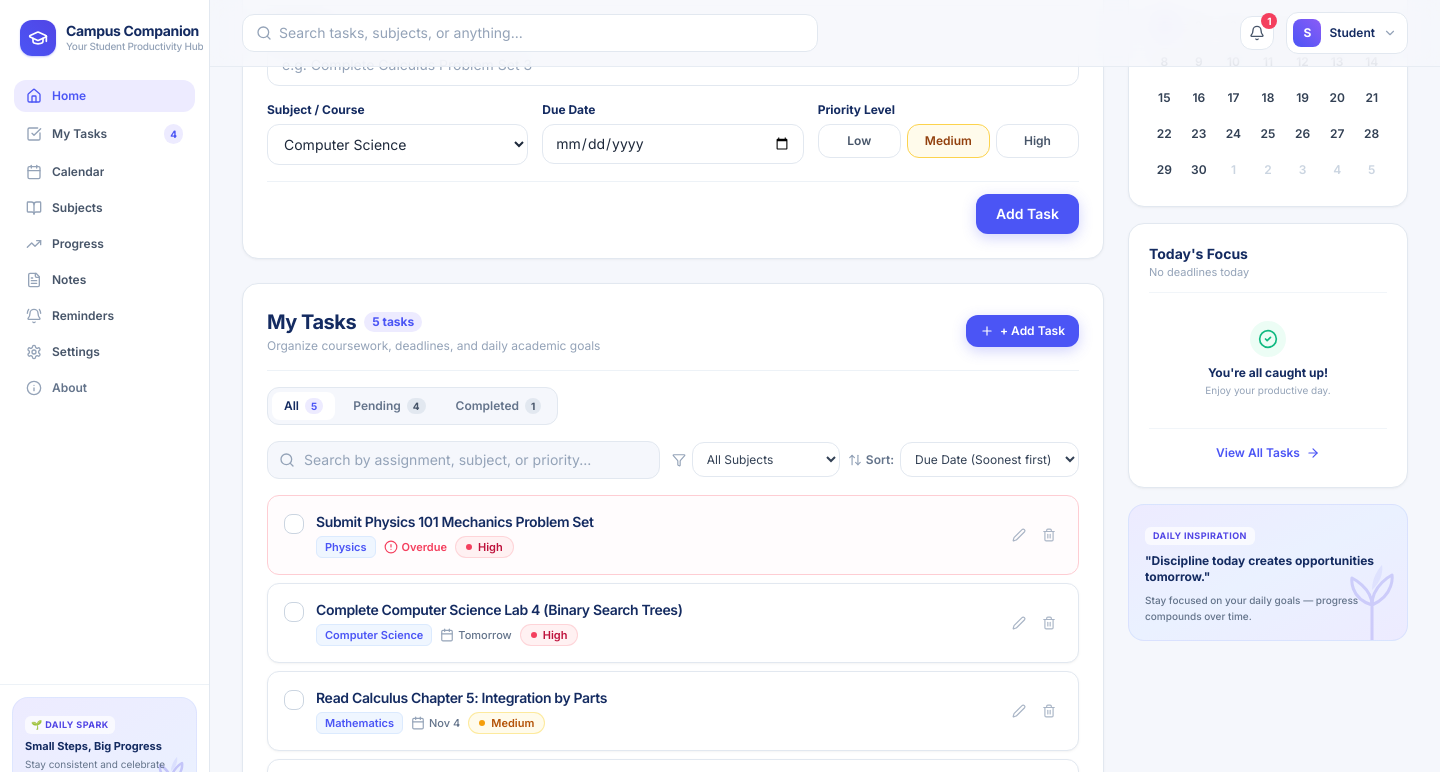
Test: Campus Companion Application › filters tasks using All, Pending, and Completed tabs
(page scrolled)
// Click Pending tab
Click the button "Pending 4" at point(389, 406), box [341,392,438,420]
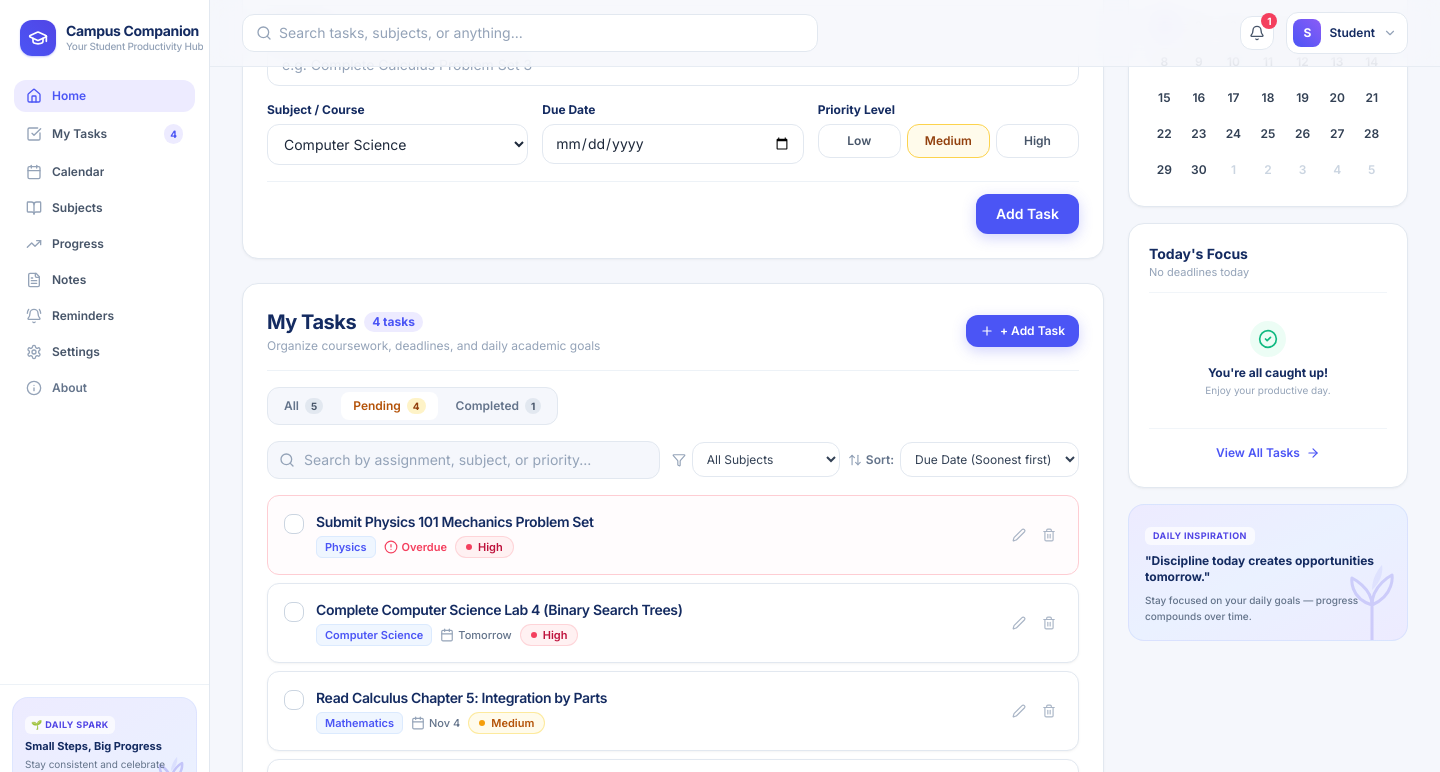
Expected: the text "Complete Computer Science Lab 4 (Binary Search Trees)" is shown, [316,600,683,620]
Expected: the text "Review Linear Algebra Midterm Practice Questions" is not shown
// Click Completed tab
Click the button "Completed 1" at point(498, 406), box [444,392,553,420]
(page scrolled)
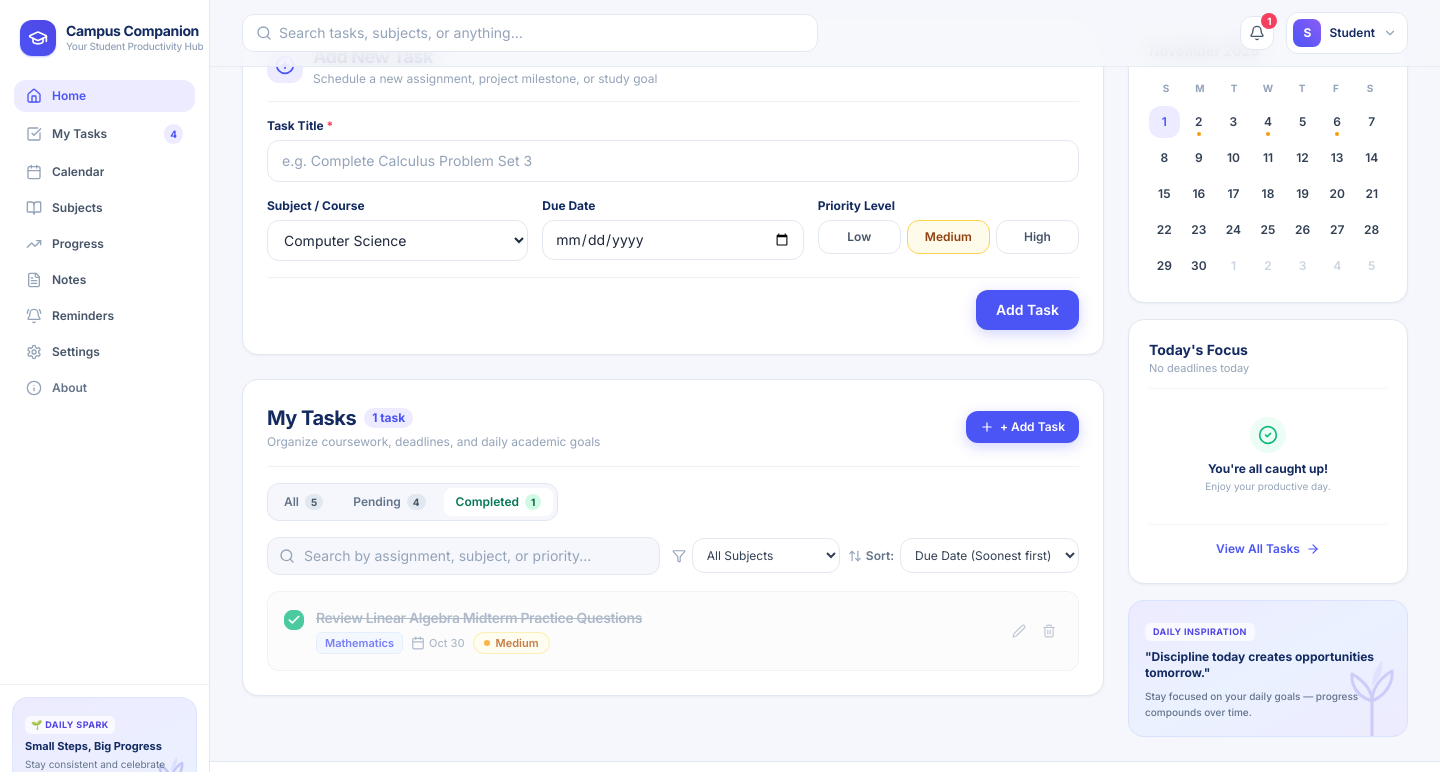
Now the text "Complete Computer Science Lab 4 (Binary Search Trees)" is gone
Now the text "Review Linear Algebra Midterm Practice Questions" is shown, box [316,608,642,628]
// Click All tab
Click the button "All 5" at point(304, 502), box [272,488,335,516]
(page scrolled)
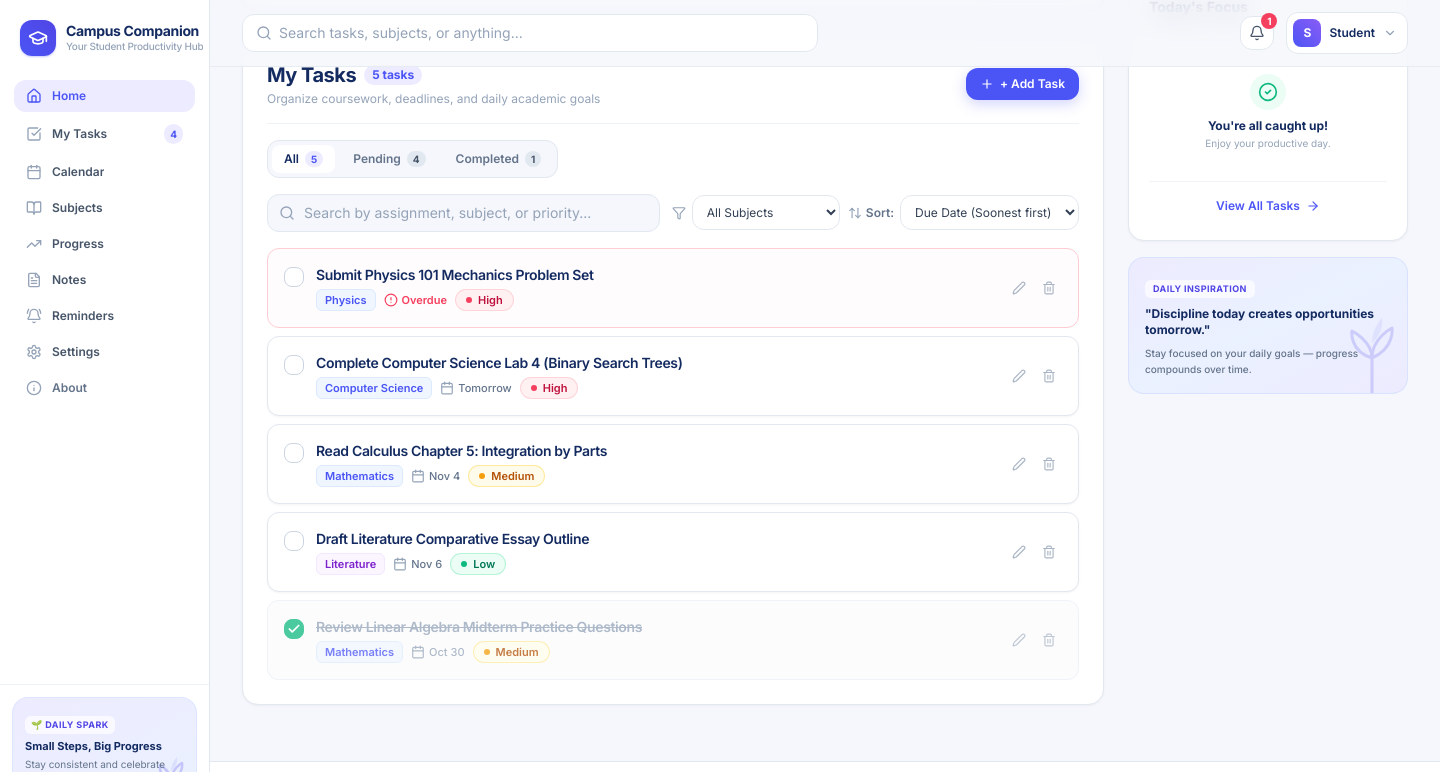
Now the text "Review Linear Algebra Midterm Practice Questions" is shown, box [316,616,642,636]
Now the text "Complete Computer Science Lab 4 (Binary Search Trees)" is shown, box [316,352,683,372]
